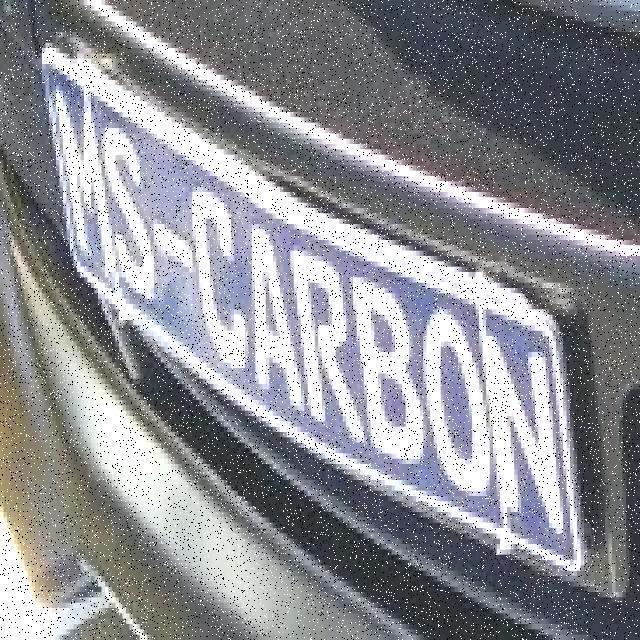LicensePlate: (22, 29, 590, 593)
